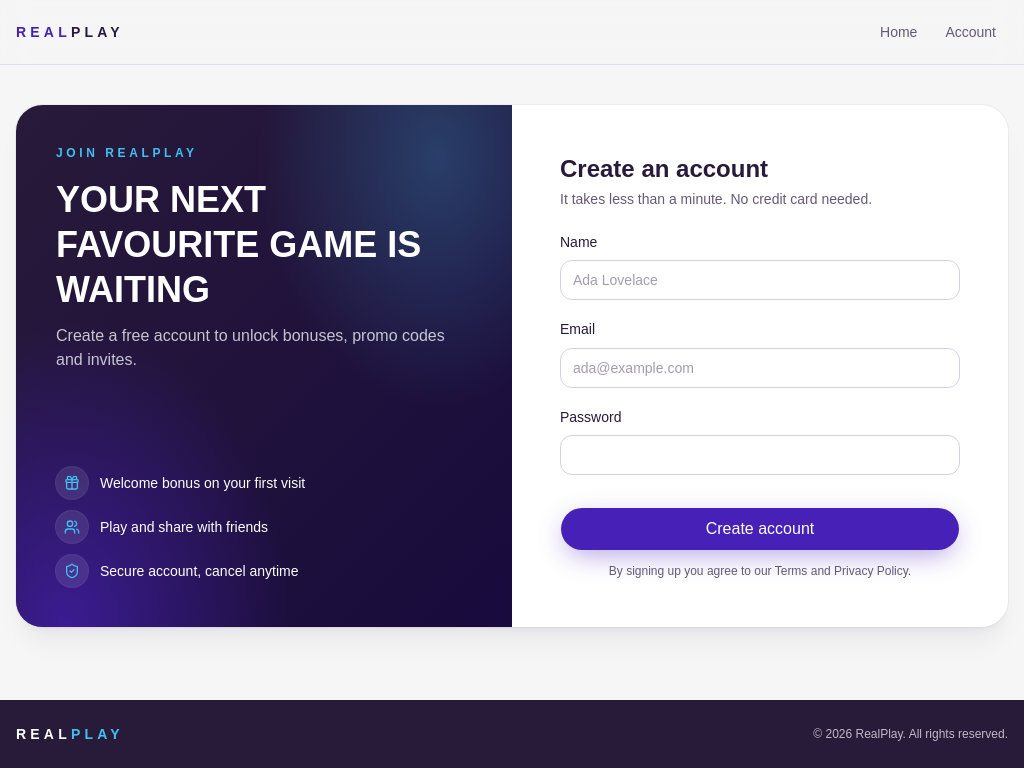
Test: guest landing with modal + attribution params › keeps attribution when registration fails so a retry still sends it
Type "Ada" into the field labelled "Name" at (760, 280), box 560,260 -> 960,300
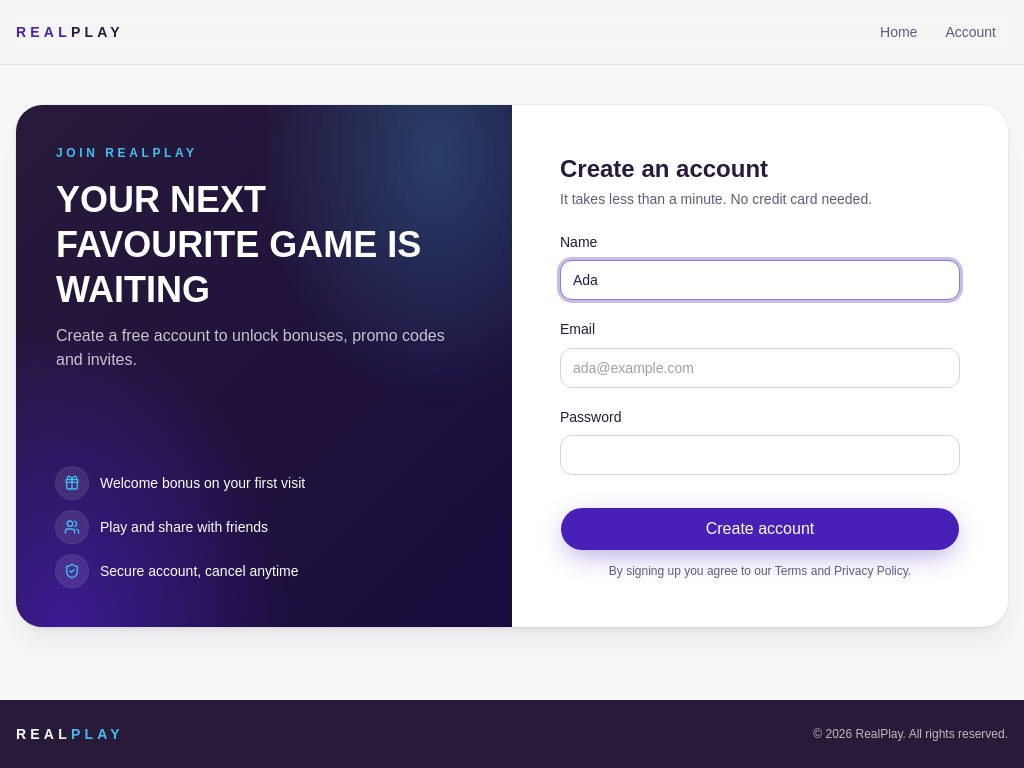
Type "taken@example.com" into the field labelled "Email" at (760, 368), box 560,348 -> 960,388
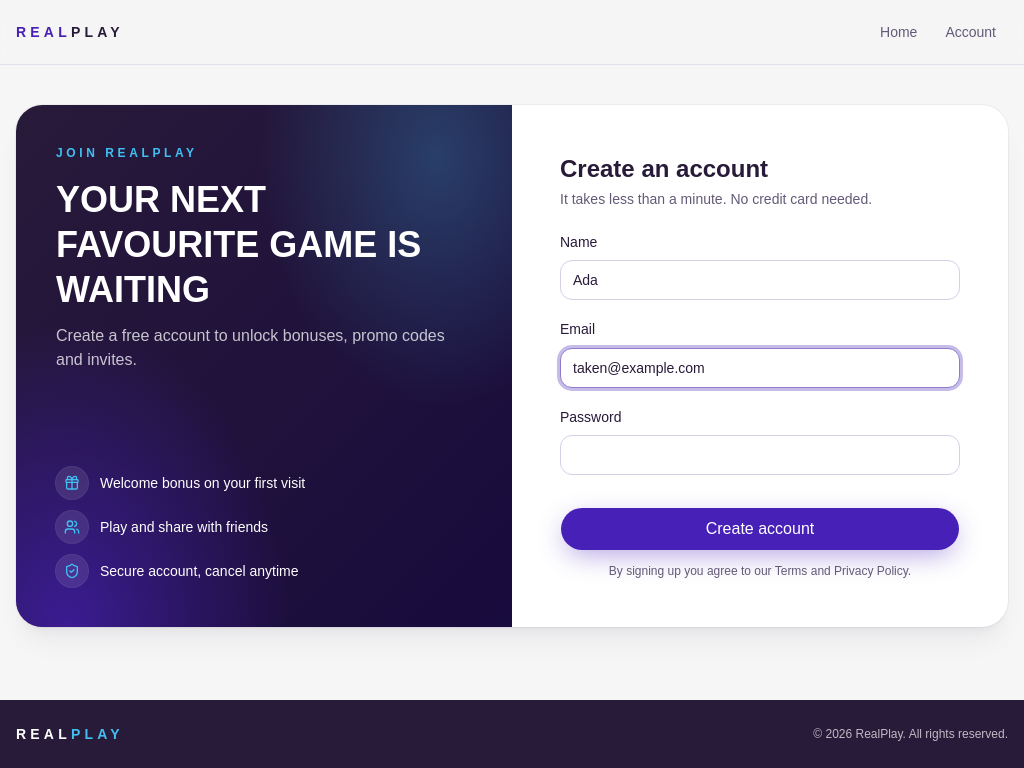
Type "correct-horse" into the password field labelled "Password" at (760, 455), box 560,435 -> 960,475
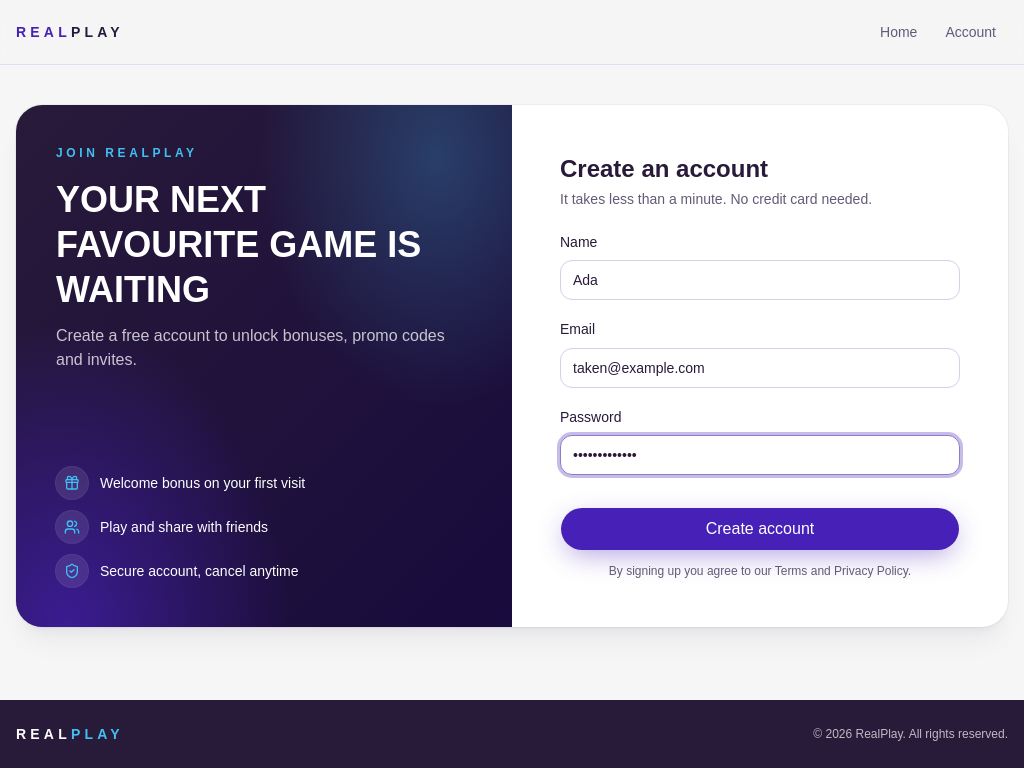
Click the button "Create account" at (760, 529), box 560,507 -> 960,551
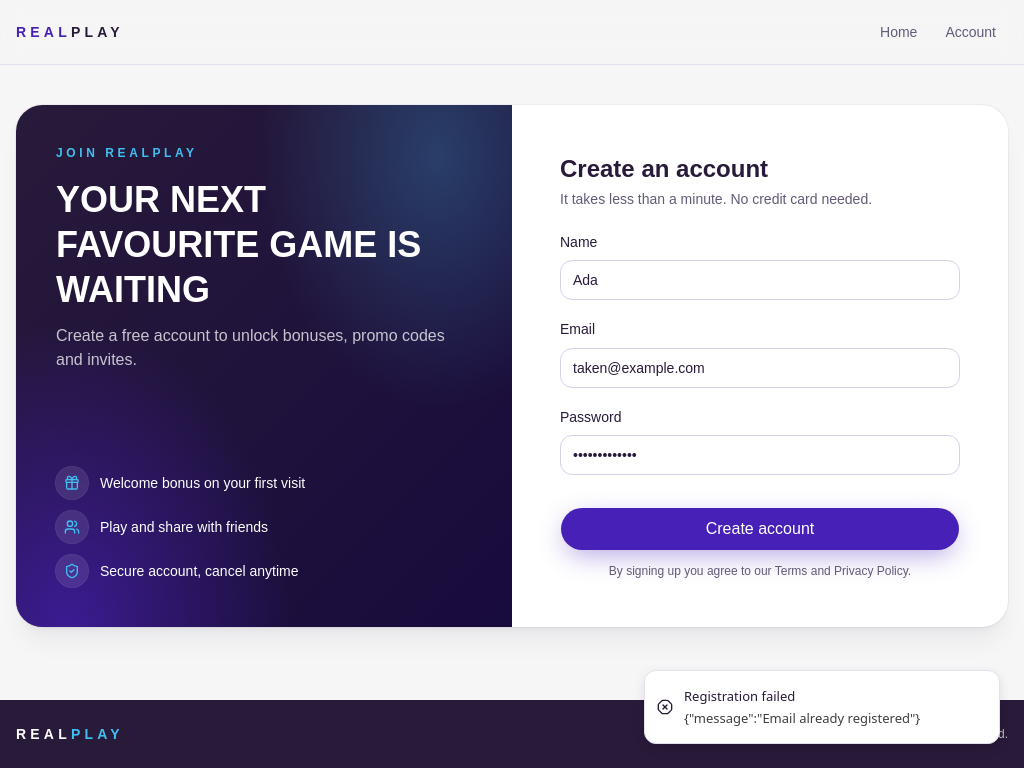
Expected: the text "Registration failed" is shown, 684,687 -> 795,705
